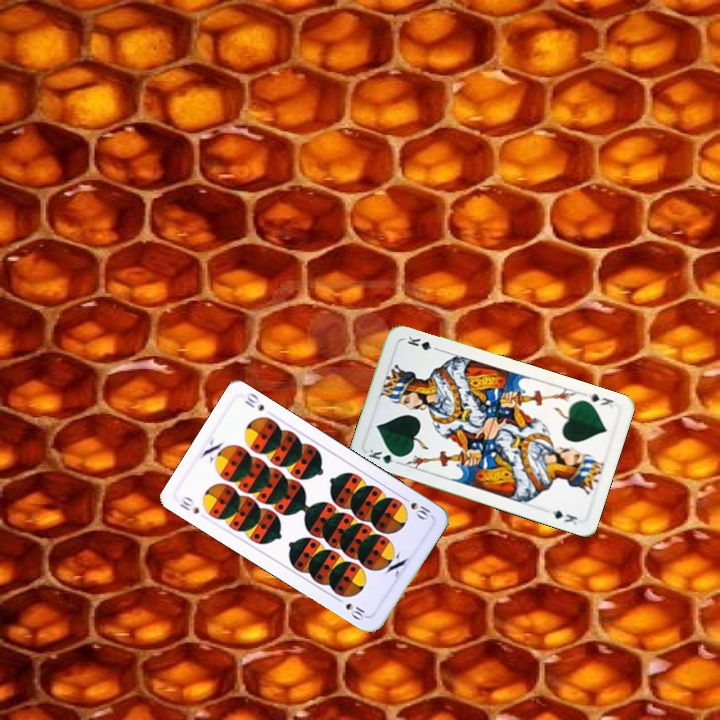GK: (364, 445, 404, 467), (584, 389, 616, 411)
S10: (396, 492, 435, 523), (176, 492, 202, 517)
